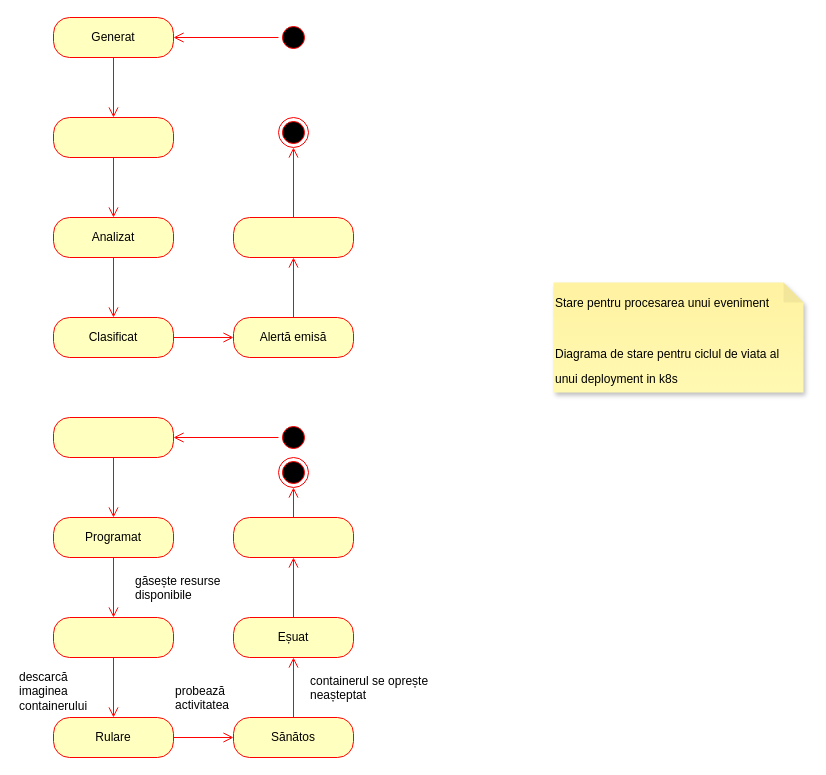
The diagram is 826 pixels wide and 775 high, and some of its shapes have lost their labels. The shapes that lost their labels are listed below. From the top down, each one's centre as x and y in pixels, then its label:
At point 113,137: "Colectat".
At point 293,237: "Alertă rezolvată".
At point 113,437: "Definit".
At point 293,537: "Terminat".
At point 113,637: "În creare".
